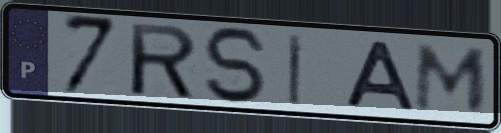7: (60, 11, 121, 98)
A: (341, 38, 419, 113)
I: (285, 31, 306, 107)
M: (412, 41, 492, 115)
R: (126, 20, 200, 102)
S: (199, 24, 272, 107)
